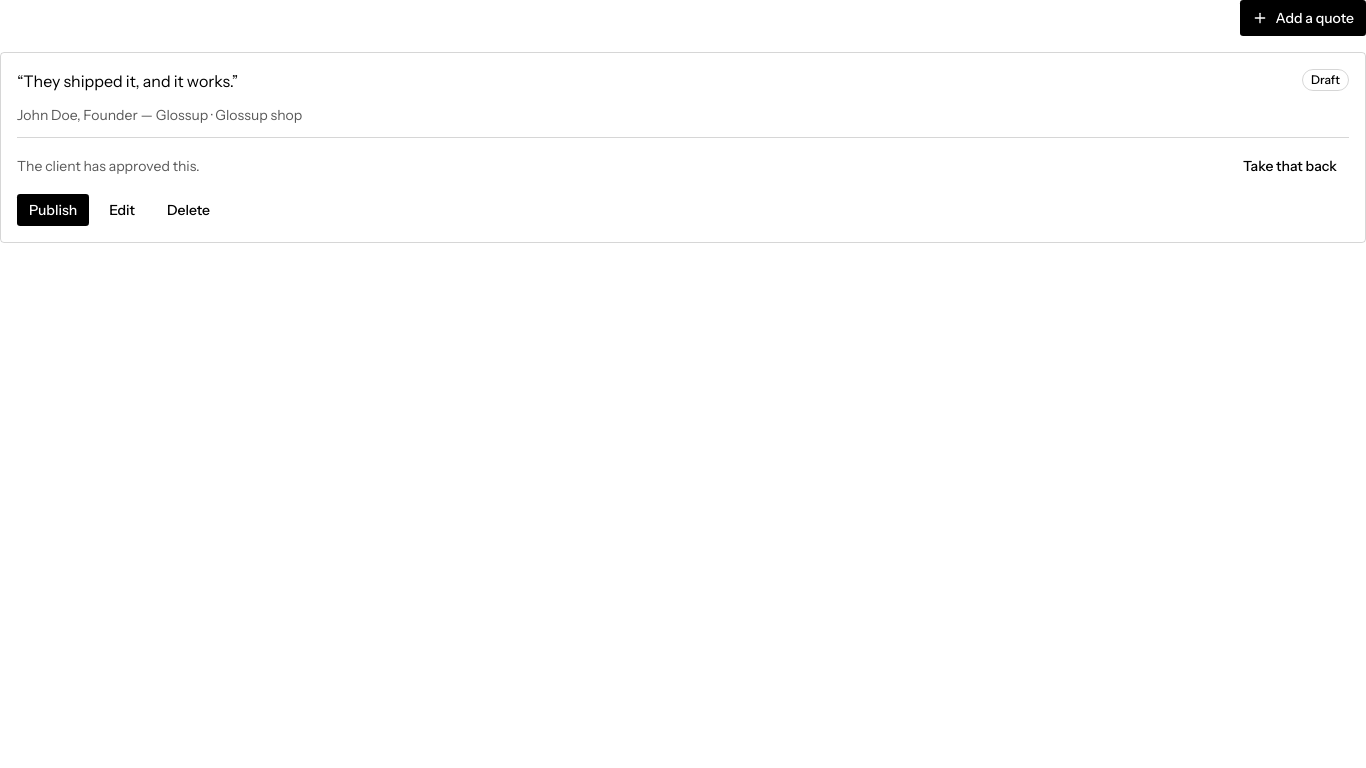
Test: quotes › does not threaten to take down something that was never up
Click the button "Take that back".
click(1290, 166)  # box left=1231, top=150, right=1349, bottom=182
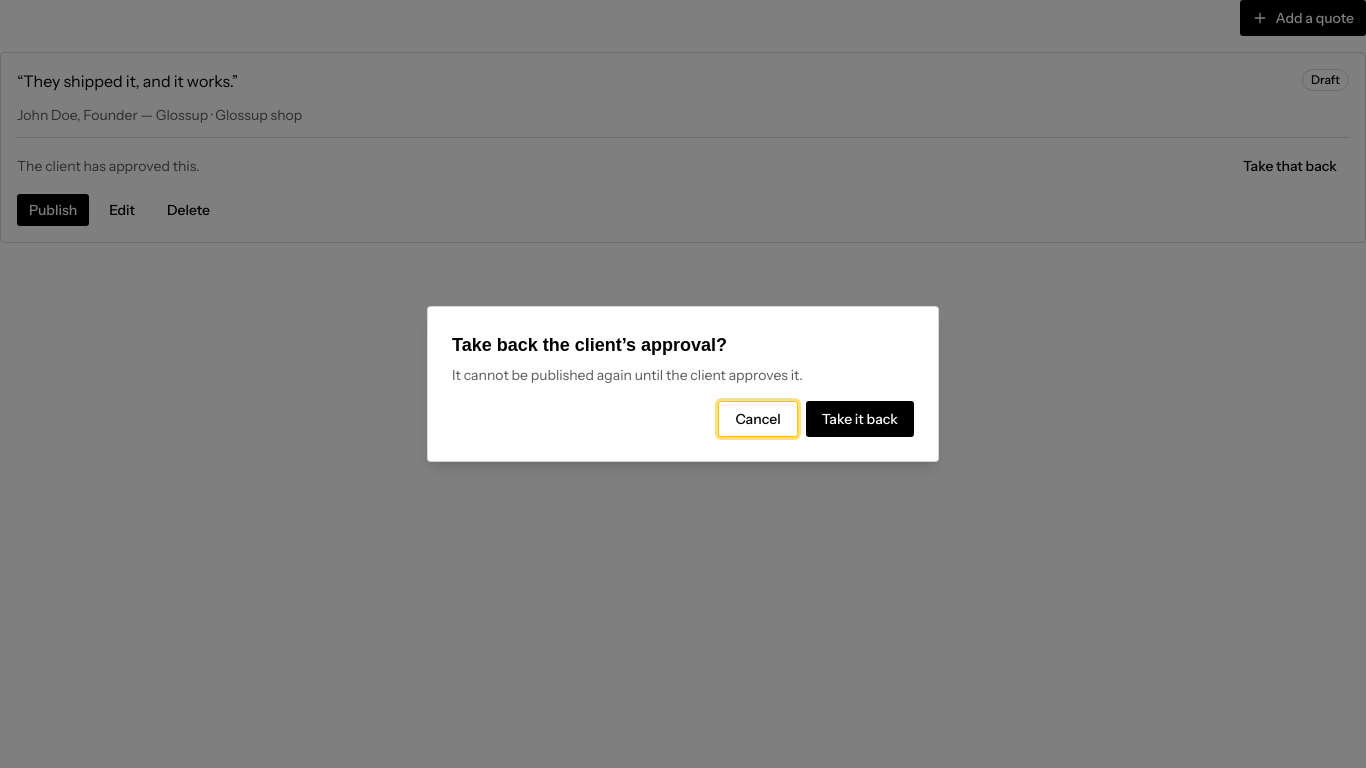
Check: the text "It cannot be published again until the client approves it." is shown, box left=452, top=365, right=803, bottom=385
